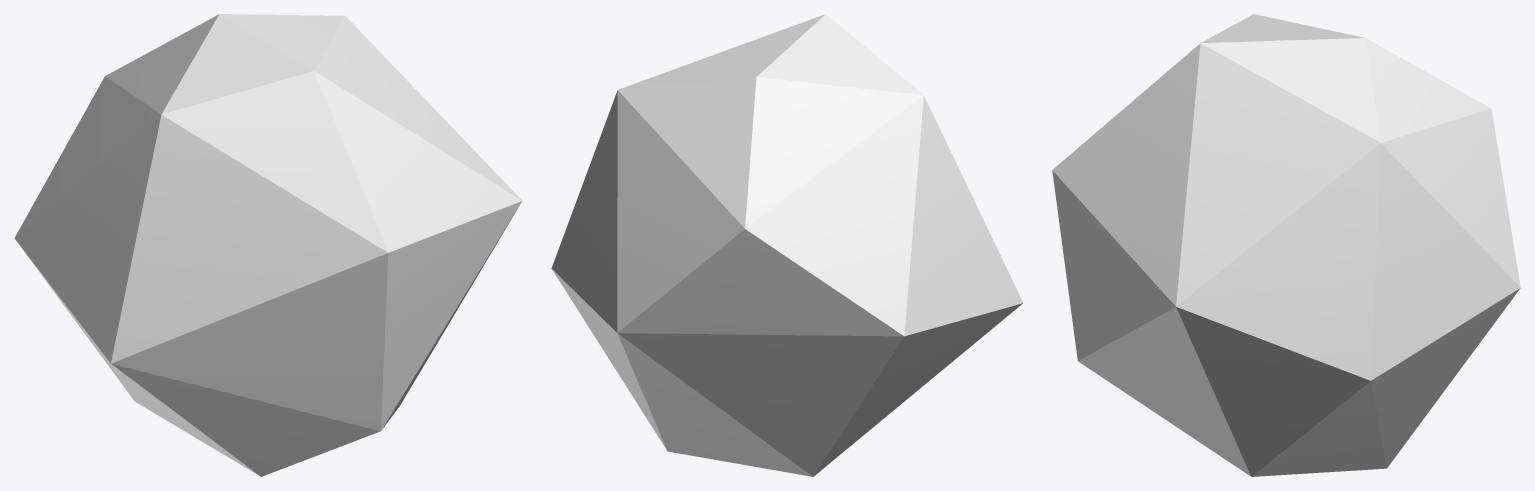
Rendered from spray.glb.
3 renders of one model, left to right at view 1: azimuth 30°, elevation 25°; view 2: azimuth 150°, elevation 25°; view 3: azimuth 270°, elevation 25°, orthographic.
Parts seen in each view (by area): view 1: spray; view 2: spray; view 3: spray.
Part boxes in pixels (left/top/right/bottom): spray: left=14, top=14, right=522, bottom=476; spray: left=551, top=14, right=1023, bottom=476; spray: left=1052, top=14, right=1520, bottom=476.
Size of the model in its own units: 2.02 by 1.94 by 2.06.
1 material, 1 textured.
